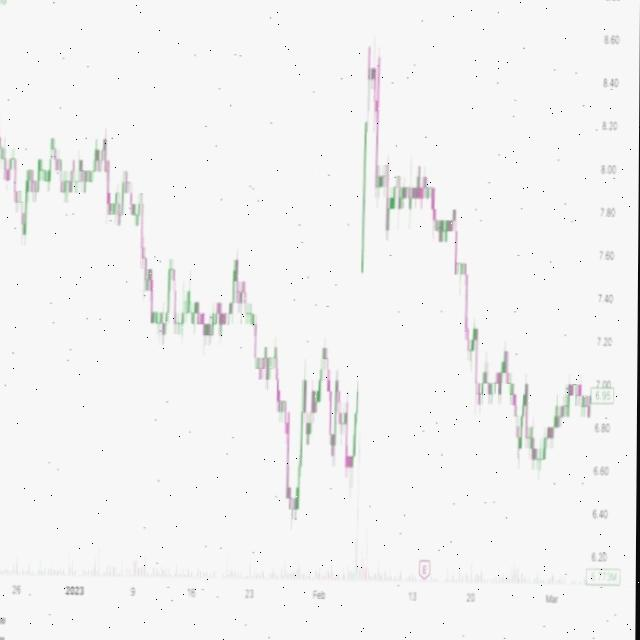Gap Up: (349, 153, 377, 449)
